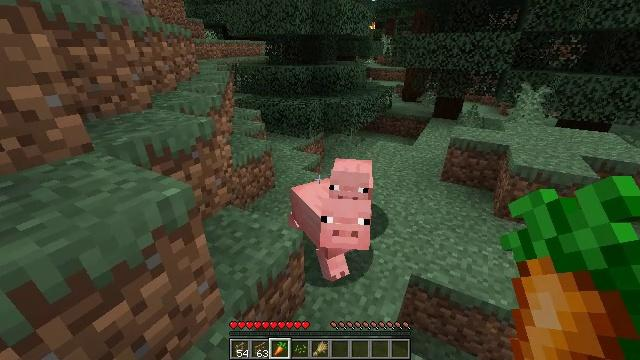pig: (291, 177, 371, 280), (329, 160, 374, 202)
